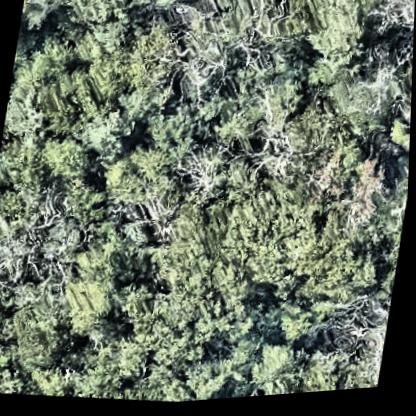tree-top: (223, 179, 333, 293), (181, 0, 290, 107), (255, 111, 355, 204), (130, 281, 222, 376), (152, 197, 238, 297), (116, 16, 188, 133), (59, 234, 134, 345), (1, 278, 79, 381), (282, 0, 381, 81), (320, 49, 407, 141), (161, 16, 244, 110), (57, 10, 131, 113), (102, 136, 185, 214), (249, 337, 342, 401), (64, 328, 139, 405), (355, 162, 411, 263), (306, 242, 385, 309), (330, 301, 393, 382), (337, 312, 391, 396), (139, 100, 207, 163), (73, 98, 134, 162), (37, 131, 100, 187), (183, 349, 246, 405), (183, 145, 236, 203), (60, 0, 138, 32), (392, 52, 414, 156), (373, 0, 415, 54), (0, 326, 29, 395), (18, 0, 68, 38), (150, 0, 200, 19)
